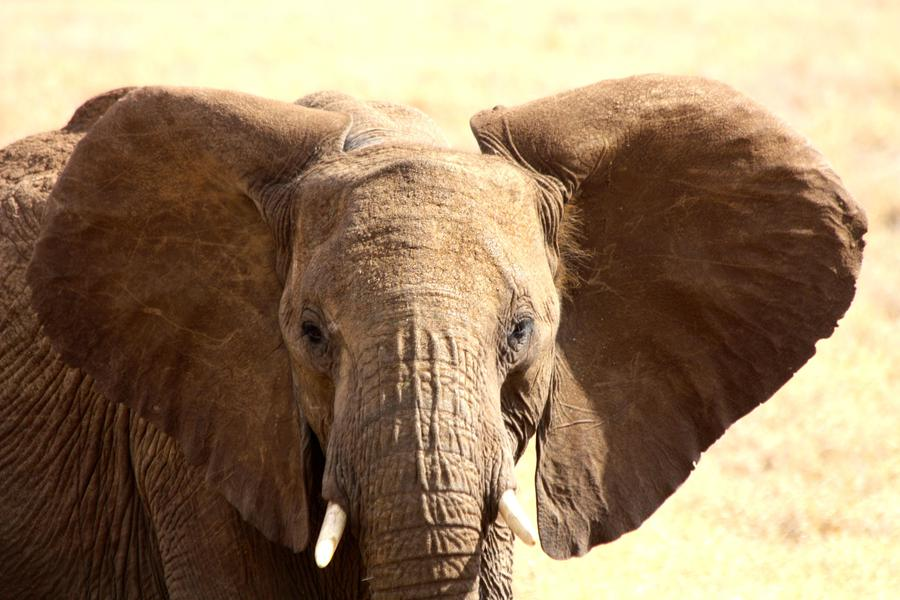elephant: (68, 103, 803, 518)
